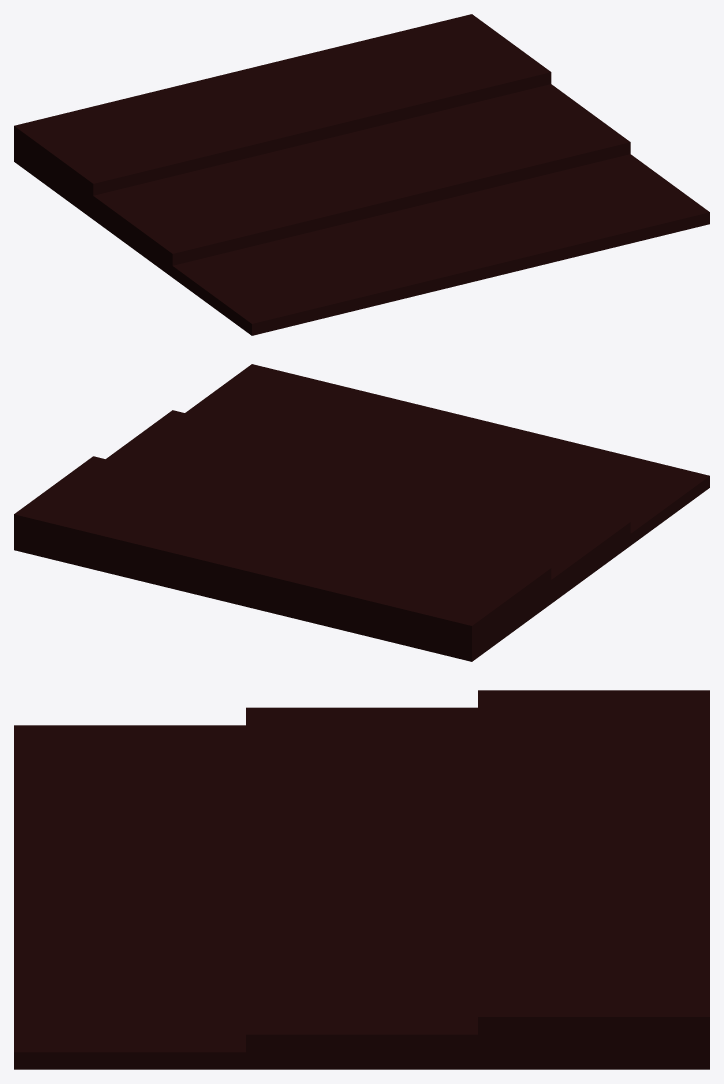
The model's file is stadium.dae.
3 renders of one model, top to bottom at view 1: azimuth 30°, elevation 25°; view 2: azimuth 150°, elevation 25°; view 3: azimuth 270°, elevation 25°, orthographic. The views are drawn at different scales.
Parts seen in each view (by area): view 1: node0; view 2: node0; view 3: node0.
Boxes of the visible parts, x1,y1,x2,y2 form: node0: [14, 14, 709, 335]; node0: [14, 364, 709, 661]; node0: [14, 690, 709, 1069].
Size of the model in its own units: 20 by 18 by 1.5.
